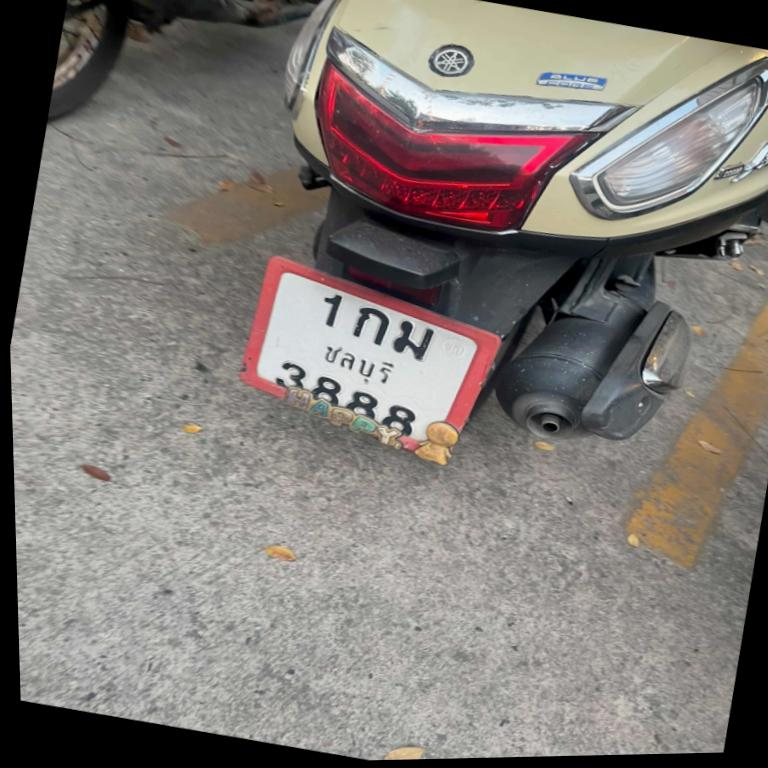license plate: (228, 249, 508, 471)
